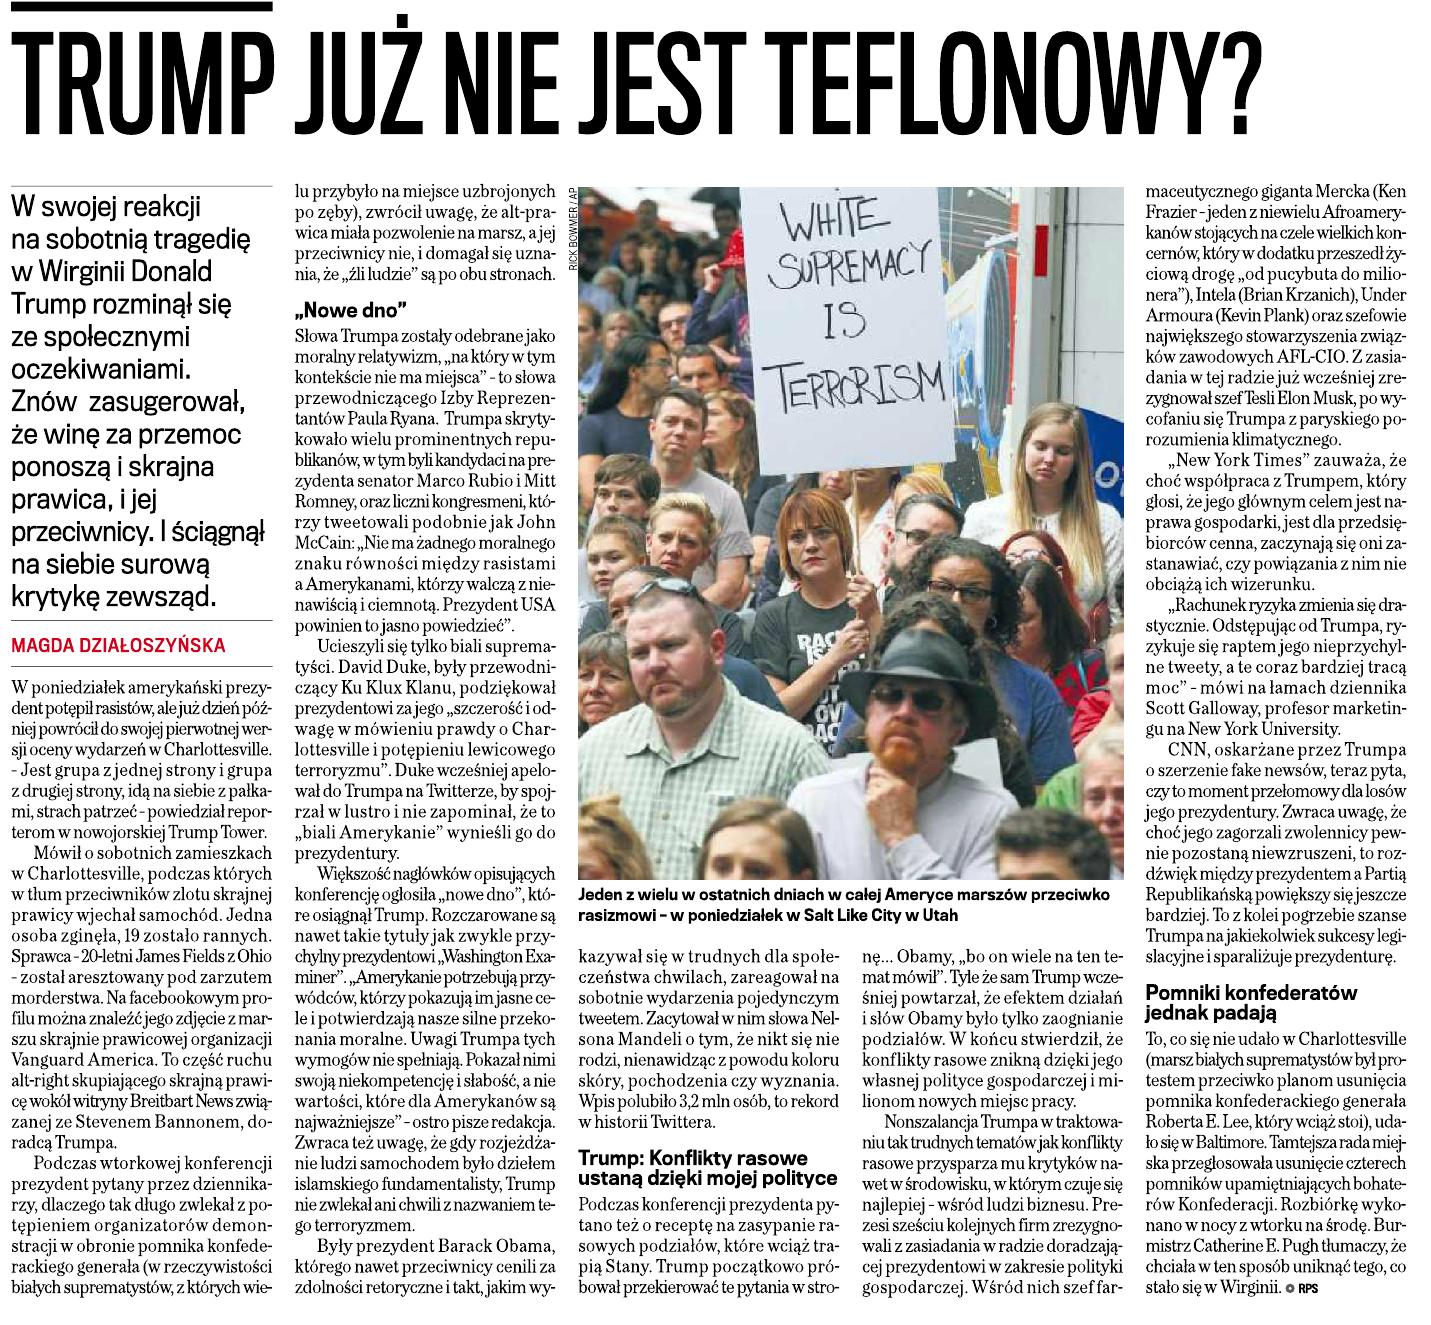author: (5, 623, 243, 663)
body: (1136, 173, 1420, 1303), (285, 176, 566, 1303), (5, 673, 279, 1300), (858, 932, 1139, 1305), (576, 932, 851, 1305)
caption: (576, 885, 1119, 927)
image: (571, 178, 1134, 880)
lead: (5, 188, 274, 611)
title: (7, 12, 1276, 166)
